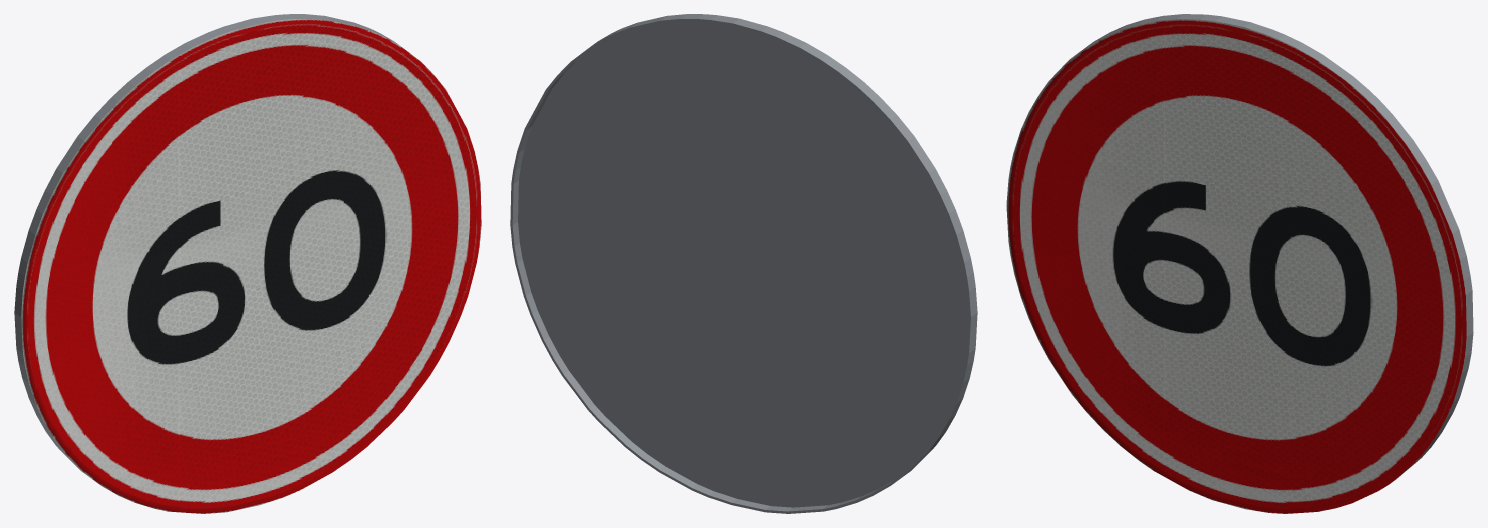
The picture shows the model from 3 angles, left to right: view 1: azimuth 30°, elevation 25°; view 2: azimuth 150°, elevation 25°; view 3: azimuth 330°, elevation 25°; orthographic projection.
Visible parts, largest first — view 1: cat_a8e044472e738a9b; view 2: cat_a8e044472e738a9b; view 3: cat_a8e044472e738a9b.
Part boxes in pixels (x1,y1,x2,y2): cat_a8e044472e738a9b: [14, 14, 481, 513]; cat_a8e044472e738a9b: [510, 14, 977, 513]; cat_a8e044472e738a9b: [1006, 14, 1473, 513].
Size of the model in its own units: 0.6 by 0.015 by 0.6.
Materials: 2 (1 with a texture image).
